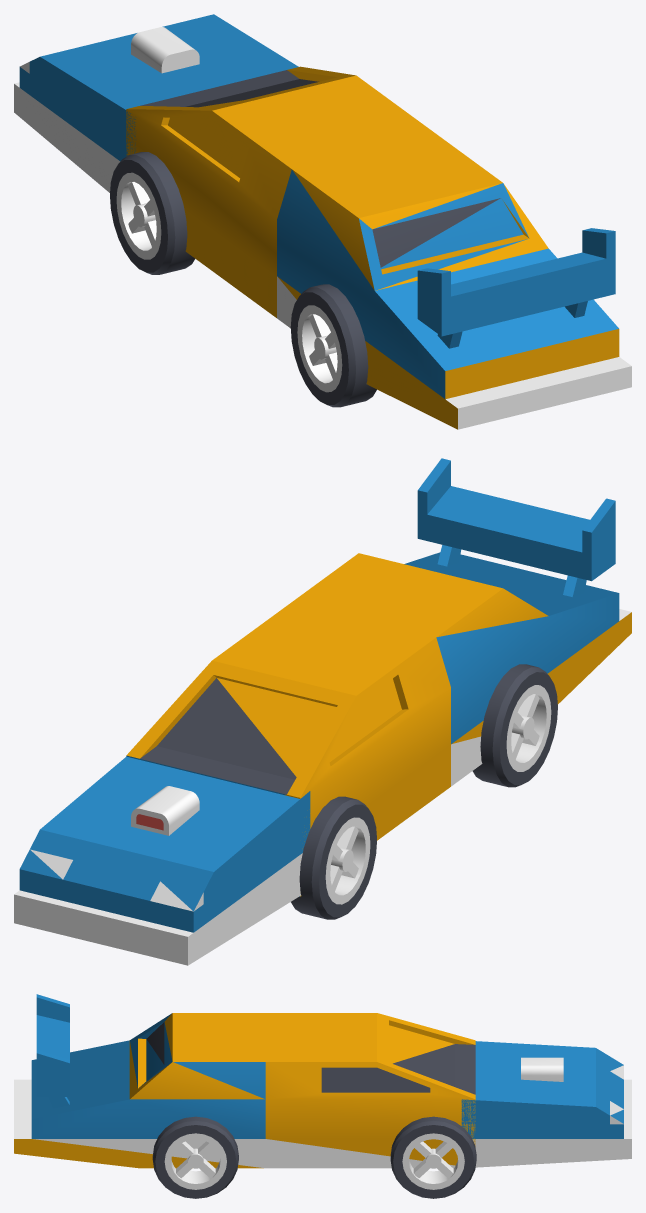
Rendered from limo.obj.
The picture shows the model from 3 angles, top to bottom: view 1: azimuth 30°, elevation 25°; view 2: azimuth 150°, elevation 25°; view 3: azimuth 270°, elevation 25°; orthographic projection. The views are drawn at different scales.
Visible parts, largest first — view 1: trunk_defaultHigh_29, windshield_default_27, hood_default_18, detail_spoiler_32, wheel_smallSports_30, wheel_smallSports_25, detail_engine_20; view 2: windshield_default_27, hood_default_18, trunk_defaultHigh_29, detail_spoiler_32, wheel_smallSports_25, wheel_smallSports_30, detail_engine_20; view 3: trunk_defaultHigh_29, windshield_default_27, hood_default_18, wheel_smallSports_24, wheel_smallSports_31, detail_spoiler_32, detail_engine_20.
Part boxes in pixels (bbox=[...]): trunk_defaultHigh_29: bbox=[277, 134, 631, 429]; windshield_default_27: bbox=[126, 66, 435, 317]; hood_default_18: bbox=[14, 14, 298, 192]; detail_spoiler_32: bbox=[417, 228, 615, 348]; wheel_smallSports_30: bbox=[290, 284, 376, 407]; wheel_smallSports_25: bbox=[110, 152, 194, 274]; detail_engine_20: bbox=[131, 27, 199, 73]; windshield_default_27: bbox=[126, 602, 450, 896]; hood_default_18: bbox=[14, 756, 310, 965]; trunk_defaultHigh_29: bbox=[292, 552, 631, 786]; detail_spoiler_32: bbox=[417, 458, 615, 597]; wheel_smallSports_25: bbox=[291, 796, 376, 919]; wheel_smallSports_30: bbox=[472, 664, 557, 787]; detail_engine_20: bbox=[131, 786, 199, 835]; trunk_defaultHigh_29: bbox=[14, 1013, 265, 1168]; windshield_default_27: bbox=[265, 1013, 475, 1168]; hood_default_18: bbox=[461, 1041, 631, 1167]; wheel_smallSports_24: bbox=[390, 1116, 476, 1198]; wheel_smallSports_31: bbox=[152, 1116, 238, 1198]; detail_spoiler_32: bbox=[36, 994, 69, 1108]; detail_engine_20: bbox=[521, 1057, 563, 1081].
Bounding box in the file's own units: 1.2 × 1.12 × 4.42.
